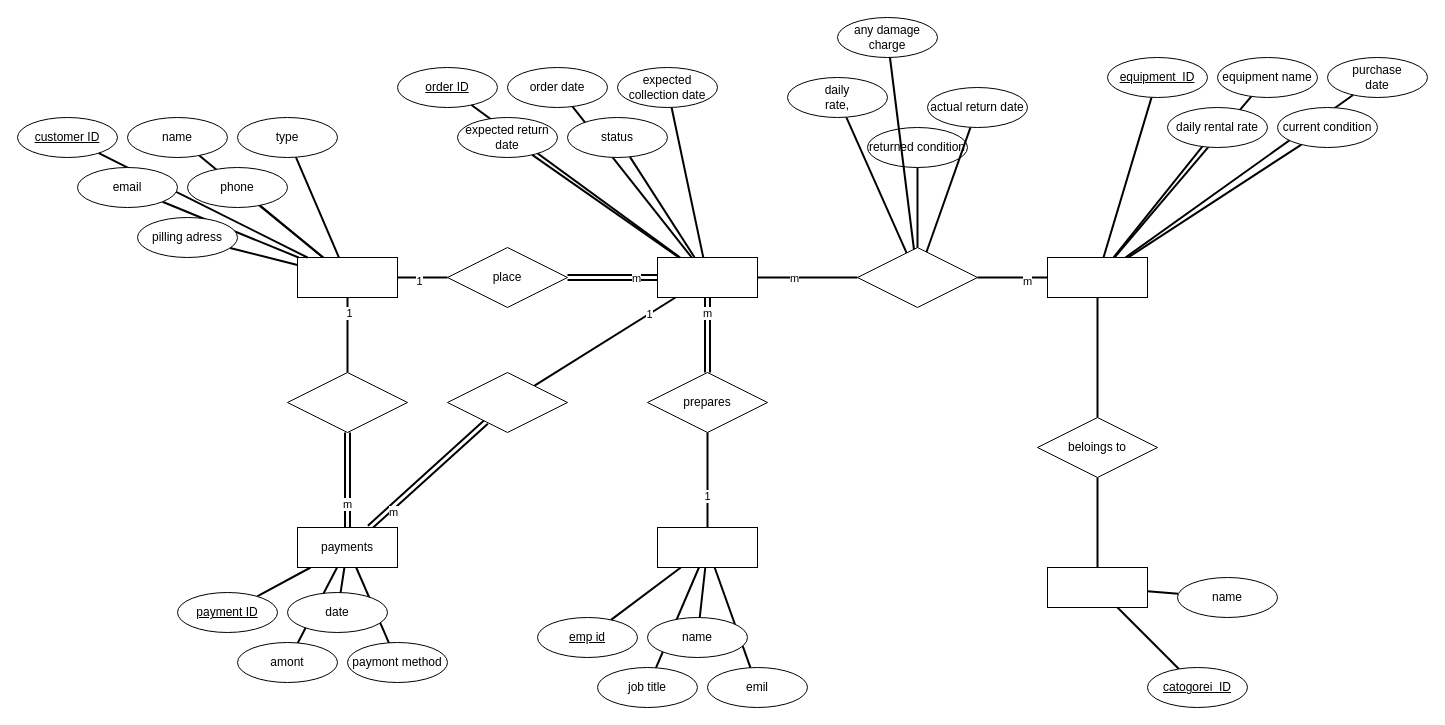
This 1445x725 diagram has some shape labels left out. Each missing label, with the centre of its shape:
"catogorei" belongs at [1097,587].
"contanis" belongs at [917,277].
"customer" belongs at [347,277].
"employee" belongs at [707,547].
"Equipment" belongs at [1097,277].
"has" belongs at [507,402].
"RentalOrder" belongs at [707,277].
"take" belongs at [347,402].
